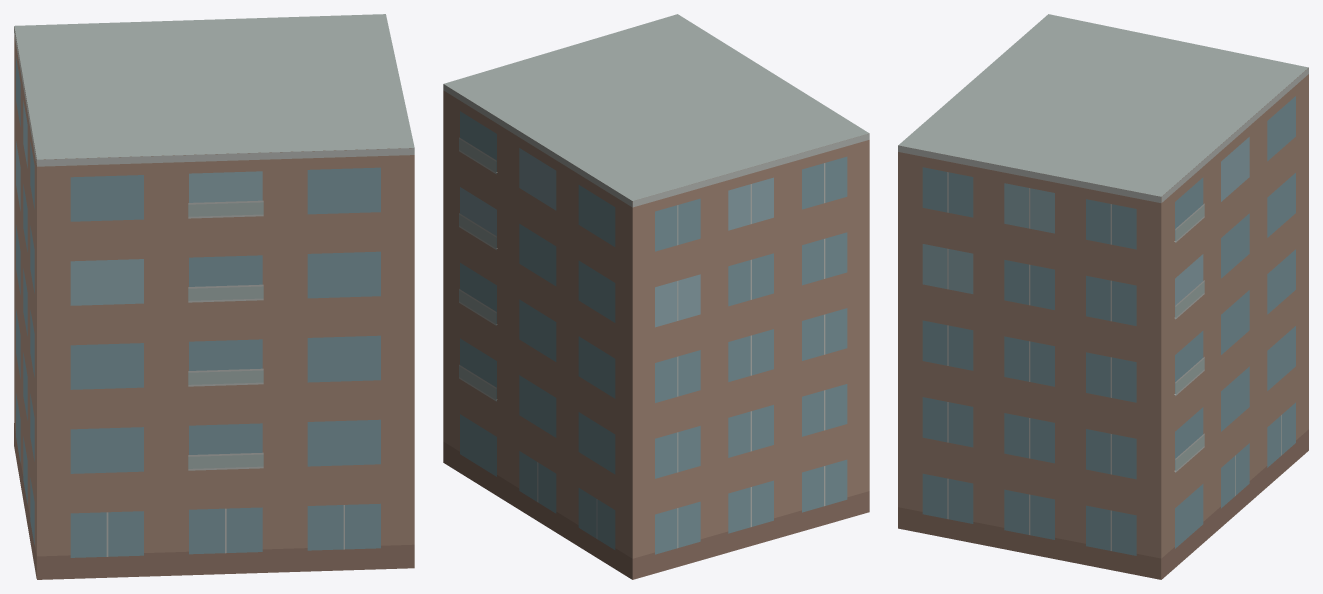
Rendered from survey-upis-33012838.glb.
The picture shows the model from 3 angles, left to right: view 1: azimuth 30°, elevation 25°; view 2: azimuth 150°, elevation 25°; view 3: azimuth 270°, elevation 25°; orthographic projection. The views are drawn at different scales.
Visible parts, largest first — view 1: survey-upis-33012838.tmp; view 2: survey-upis-33012838.tmp; view 3: survey-upis-33012838.tmp.
Part boxes in pixels (x1,y1,x2,y2): survey-upis-33012838.tmp: (14,14,414,579); survey-upis-33012838.tmp: (443,14,869,579); survey-upis-33012838.tmp: (898,14,1308,579).
Bounding box in the file's own units: 14.85 × 14.5 × 14.1.
